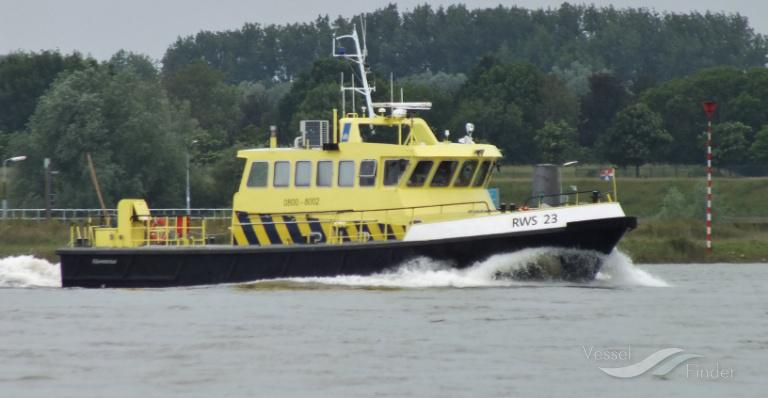OCR: (493, 210, 560, 230)
